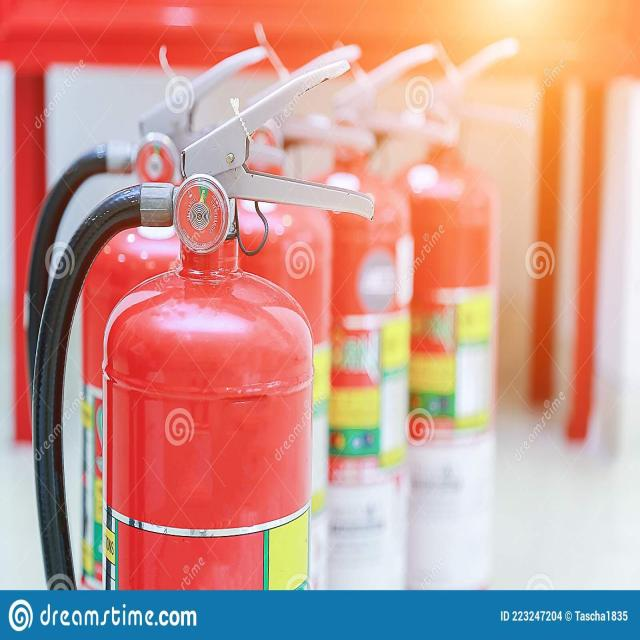fire_extinguisher: (30, 55, 378, 593), (24, 43, 292, 591)
